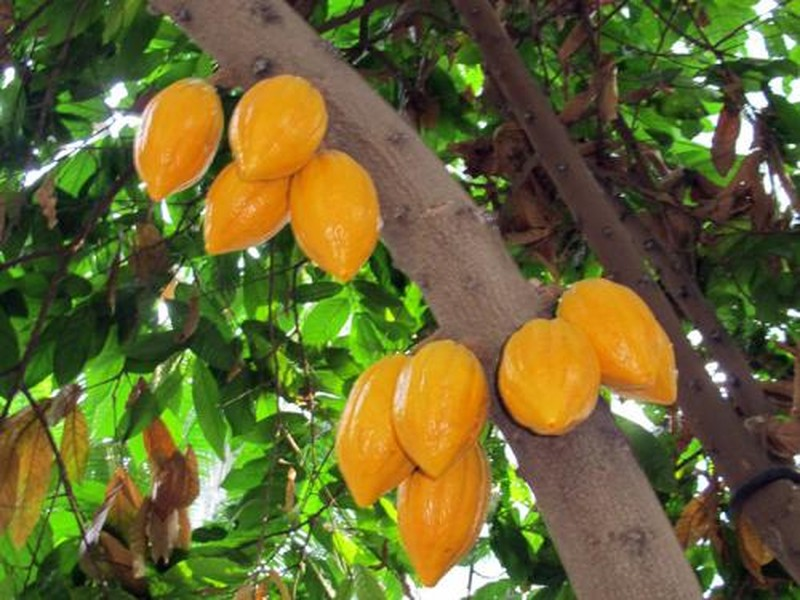Cacaopod: (229, 72, 324, 180)
